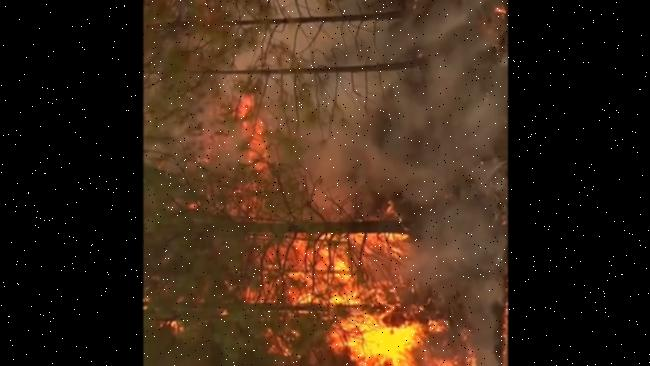fire: (248, 235, 502, 366)
